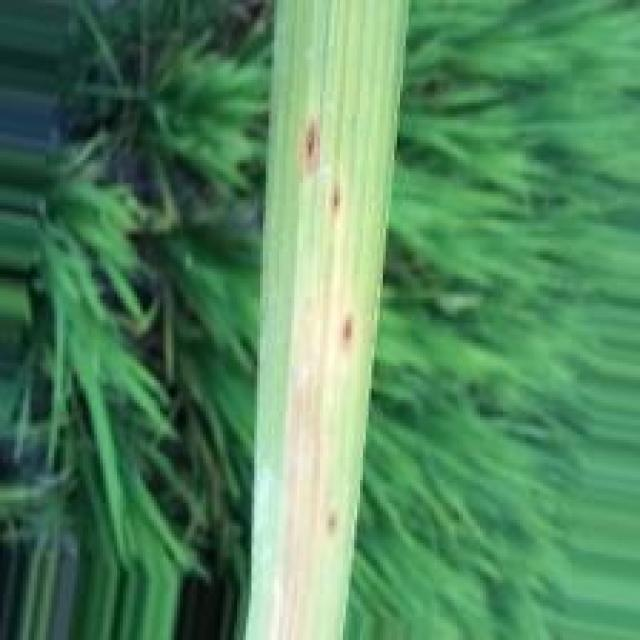Brown_Spot: (301, 126, 323, 171), (340, 314, 354, 350), (332, 188, 341, 208)
